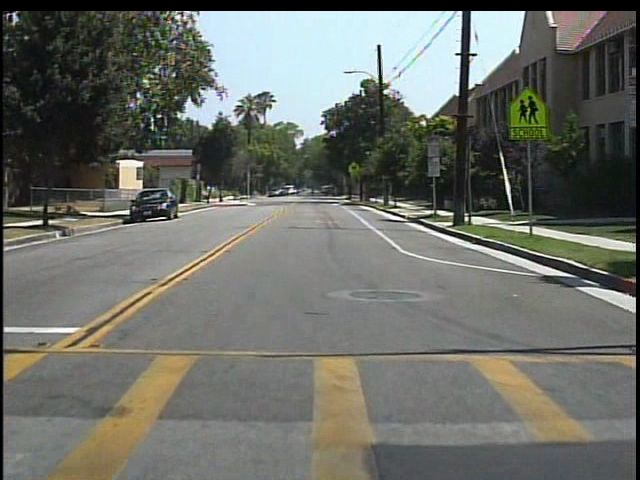person: (306, 183, 320, 201)
